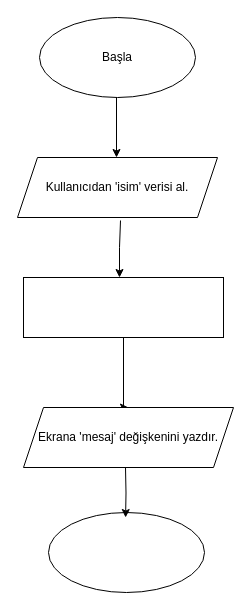
Image size: 251x610. Some labels were removed from this diagram. Each missing label, with the centre of its shape:
DUR: [126,552]
mesaj='Hoş Geldiniz Sayı' + isim: [123,307]
